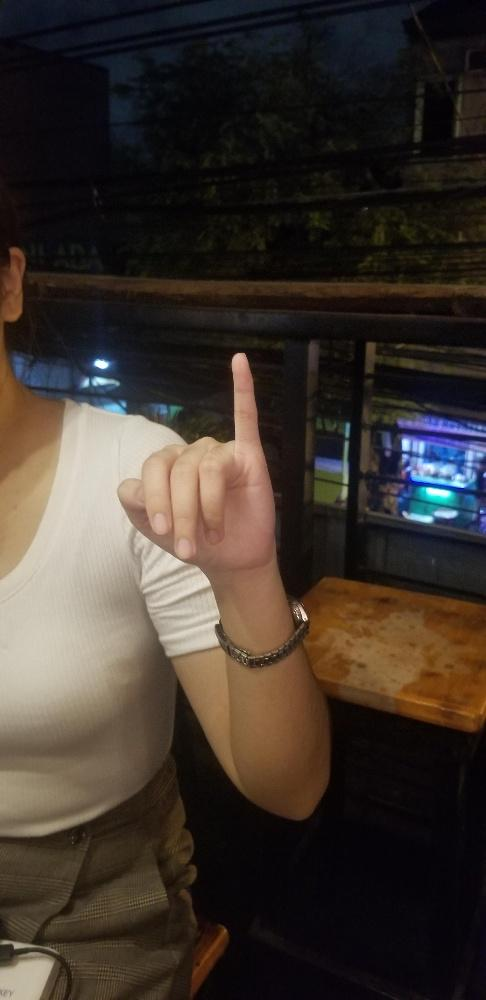i: (115, 350, 276, 575)
